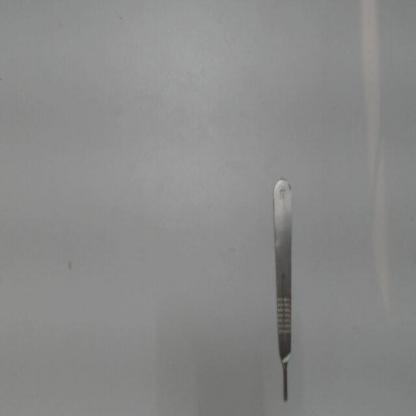No.3 BP Handle: (266, 174, 297, 406)
